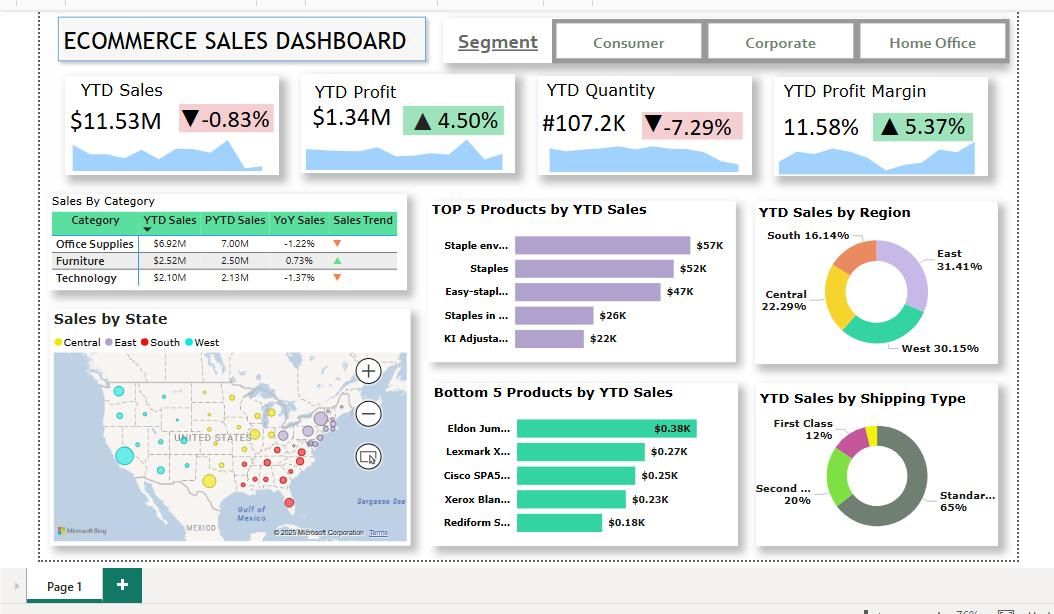

What the dashboard file says about the page in this screenshot:
{"tool":"powerbi","page":{"name":"Page 1","canvas":[1280,720],"ordinal":0},"visuals":[{"type":"shape","box":[527,10.1,731.5,59],"z":0},{"type":"shape","box":[14.4,0,499.7,76.3],"z":1000},{"type":"textbox","box":[14.4,10.1,486.7,56.2],"z":2000},{"type":"shape","box":[12.9,241.4,467.1,125.7],"z":3000},{"type":"shape","box":[341.5,84.3,280,130],"z":4000},{"type":"card","fields":{"Values":["ecommerce_data.YTD Profit"]},"box":[341.5,116.8,134.3,44.3],"z":5000},{"type":"areaChart","fields":{"Category":["Calendar.Month"],"Y":["Sum(ecommerce_data.profit_per_order)"]},"box":[334.4,150,285.7,64.3],"z":6000},{"type":"shape","box":[475.8,125.8,131.8,37.9],"z":7000},{"type":"card","fields":{"Values":["ecommerce_data.YoY Sales"]},"box":[639.4,99.6,8.9,26.8],"z":8000},{"type":"textbox","box":[354.5,89.4,131.8,34.8],"z":9000},{"type":"card","fields":{"Values":["ecommerce_data.YoY Profit"]},"box":[501.1,118.1,118.1,49],"z":10000},{"type":"shape","box":[33.1,86.2,280,130],"z":11000},{"type":"card","fields":{"Values":["ecommerce_data.YTD Sales"]},"box":[33.1,121.9,134.3,44.3],"z":12000},{"type":"areaChart","fields":{"Category":["Calendar.Month"],"Y":["Sum(ecommerce_data.sales_per_order)"]},"box":[29,156,276.5,60.5],"z":13000},{"type":"shape","box":[181.7,122.9,123.8,37.4],"z":14000},{"type":"card","fields":{"Values":["ecommerce_data.YoY Sales"]},"box":[332.3,112.4,8.9,26.8],"z":15000},{"type":"card","fields":{"Values":["ecommerce_data.Sales icon"]},"box":[174.5,120,46.1,40.3],"z":16000},{"type":"textbox","box":[48.9,86.2,167.1,35.7],"z":17000},{"type":"card","fields":{"Values":["ecommerce_data.YoY Sales"]},"box":[197.3,116.6,116.6,49],"z":18000},{"type":"shape","box":[651.5,85.8,280,130],"z":19000},{"type":"card","fields":{"Values":["ecommerce_data.YTD Concatenated QTY"]},"box":[645.8,124.2,134.3,44.3],"z":20000},{"type":"areaChart","fields":{"Category":["Calendar.Month"],"Y":["Sum(ecommerce_data.order_quantity)"]},"box":[653.8,154.1,275,63.4],"z":21000},{"type":"shape","box":[787.9,133.3,131.8,36.4],"z":22000},{"type":"card","fields":{"Values":["ecommerce_data.YoY Sales"]},"box":[936.5,151.3,8.9,26.8],"z":23000},{"type":"card","fields":{"Values":["ecommerce_data.Quantity icon"]},"box":[780.1,127.2,45.7,40],"z":24000},{"type":"textbox","box":[658.7,85.8,167.1,35.7],"z":25000},{"type":"card","fields":{"Values":["ecommerce_data.YoY Quantity"]},"box":[803,128.8,116.7,47],"z":26000},{"type":"card","fields":{"Values":["ecommerce_data.YoY Sales"]},"box":[623.6,119.5,8.9,26.8],"z":27000},{"type":"card","fields":{"Values":["ecommerce_data.YoY Sales"]},"box":[639.4,76.7,8.9,26.8],"z":28000},{"type":"card","fields":{"Values":["ecommerce_data.YoY Sales"]},"box":[321,94.2,8.9,26.8],"z":29000},{"type":"card","fields":{"Values":["ecommerce_data.YoY Sales"]},"box":[960.8,136.9,8.9,26.8],"z":30000},{"type":"shape","box":[961.4,87.2,280,130],"z":31000},{"type":"card","fields":{"Values":["ecommerce_data.YTD Profit Margin"]},"box":[956.2,128.2,133.9,44.6],"z":32000},{"type":"shape","box":[1090.1,135.4,131,37.4],"z":33000},{"type":"areaChart","fields":{"Category":["Calendar.Month"],"Y":["ecommerce_data.Profit Margin"]},"box":[953.3,155.5,285.1,64.8],"z":34000},{"type":"card","fields":{"Values":["ecommerce_data.YoY Sales"]},"box":[1259.3,139.8,8.9,26.8],"z":35000},{"type":"card","fields":{"Values":["ecommerce_data.Profit Margin icon"]},"box":[1089.4,130.3,47,40.9],"z":36000},{"type":"textbox","box":[968.6,87.2,214.3,38.6],"z":37000},{"type":"card","fields":{"Values":["ecommerce_data.YoY Profit Margin"]},"box":[1113.1,126.7,118.1,47.5],"z":38000},{"type":"card","fields":{"Values":["ecommerce_data.YoY Sales"]},"box":[970.8,146.9,8.9,26.8],"z":39000},{"type":"pivotTable","title":"Sales By Category","fields":{"Rows":["ecommerce_data.category_name"],"Values":["ecommerce_data.YTD Sales","ecommerce_data.PYTD Sales","ecommerce_data.YoY Sales","ecommerce_data.Sales icon"]},"box":[10,241.4,470,125.7],"z":40000},{"type":"map","title":"Sales by State","fields":{"Size":["ecommerce_data.YTD Sales"],"Series":["ecommerce_data.customer_region"],"Y":["us_state_long_lat_codes.latitude"],"X":["us_state_long_lat_codes.longitude"]},"box":[13,391.7,472.3,309.6],"z":41000},{"type":"shape","box":[509.1,250,400,209.1],"z":42000},{"type":"shape","box":[513.6,487.9,400,213.6],"z":43000},{"type":"barChart","title":"TOP 5 Products by YTD Sales","fields":{"Category":["ecommerce_data.product_name"],"Y":["ecommerce_data.YTD Sales"]},"box":[507.6,250,403,210.6],"z":44000},{"type":"barChart","title":"Bottom 5 Products by YTD Sales","fields":{"Category":["ecommerce_data.product_name"],"Y":["ecommerce_data.YTD Sales"]},"box":[510.6,489.4,403,212.1],"z":45000},{"type":"shape","box":[936.4,250,316.7,213.6],"z":46000},{"type":"shape","box":[937.9,487.9,316.7,213.6],"z":47000},{"type":"donutChart","title":"YTD Sales by Region","fields":{"Y":["ecommerce_data.YTD Sales"],"Category":["ecommerce_data.customer_region"]},"box":[936.4,254.5,318.2,209.1],"z":48000},{"type":"card","fields":{"Values":["ecommerce_data.Profit icon"]},"box":[475.2,122.4,51.8,43.2],"z":49000},{"type":"donutChart","title":"YTD Sales by Shipping Type","fields":{"Y":["ecommerce_data.YTD Sales"],"Category":["ecommerce_data.shipping_type"]},"box":[937.4,496.8,316.8,204.5],"z":50000},{"type":"advancedSlicerVisual","fields":{"Values":["ecommerce_data.customer_segment"]},"box":[669.6,11.5,599,57.6],"z":51000},{"type":"textbox","box":[541.4,20.2,128.2,46.1],"z":52000}]}

Visuals, with their boxes on the page's 1280x720 design canvas (x1, y1, x2, y2). These are canvas units, not pixel positions in the 1054x614 screenshot, which may show the page scaled, cropped or inside an application window:
shape: 527/10/1258/69
shape: 14/0/514/76
textbox: 14/10/501/66
shape: 13/241/480/367
shape: 342/84/622/214
card - ecommerce_data.YTD Profit: 342/117/476/161
areaChart - Calendar.Month x Sum(ecommerce_data.profit_per_order): 334/150/620/214
shape: 476/126/608/164
card - ecommerce_data.YoY Sales: 639/100/648/126
textbox: 354/89/486/124
card - ecommerce_data.YoY Profit: 501/118/619/167
shape: 33/86/313/216
card - ecommerce_data.YTD Sales: 33/122/167/166
areaChart - Calendar.Month x Sum(ecommerce_data.sales_per_order): 29/156/306/216
shape: 182/123/306/160
card - ecommerce_data.YoY Sales: 332/112/341/139
card - ecommerce_data.Sales icon: 174/120/221/160
textbox: 49/86/216/122
card - ecommerce_data.YoY Sales: 197/117/314/166
shape: 652/86/932/216
card - ecommerce_data.YTD Concatenated QTY: 646/124/780/168
areaChart - Calendar.Month x Sum(ecommerce_data.order_quantity): 654/154/929/218
shape: 788/133/920/170
card - ecommerce_data.YoY Sales: 936/151/945/178
card - ecommerce_data.Quantity icon: 780/127/826/167
textbox: 659/86/826/122
card - ecommerce_data.YoY Quantity: 803/129/920/176
card - ecommerce_data.YoY Sales: 624/120/632/146
card - ecommerce_data.YoY Sales: 639/77/648/104
card - ecommerce_data.YoY Sales: 321/94/330/121
card - ecommerce_data.YoY Sales: 961/137/970/164
shape: 961/87/1241/217
card - ecommerce_data.YTD Profit Margin: 956/128/1090/173
shape: 1090/135/1221/173
areaChart - Calendar.Month x ecommerce_data.Profit Margin: 953/156/1238/220
card - ecommerce_data.YoY Sales: 1259/140/1268/167
card - ecommerce_data.Profit Margin icon: 1089/130/1136/171
textbox: 969/87/1183/126
card - ecommerce_data.YoY Profit Margin: 1113/127/1231/174
card - ecommerce_data.YoY Sales: 971/147/980/174
"Sales By Category" pivotTable: 10/241/480/367
"Sales by State" map: 13/392/485/701
shape: 509/250/909/459
shape: 514/488/914/702
"TOP 5 Products by YTD Sales" barChart: 508/250/911/461
"Bottom 5 Products by YTD Sales" barChart: 511/489/914/702
shape: 936/250/1253/464
shape: 938/488/1255/702
"YTD Sales by Region" donutChart: 936/254/1255/464
card - ecommerce_data.Profit icon: 475/122/527/166
"YTD Sales by Shipping Type" donutChart: 937/497/1254/701
advancedSlicerVisual - ecommerce_data.customer_segment: 670/12/1269/69
textbox: 541/20/670/66
